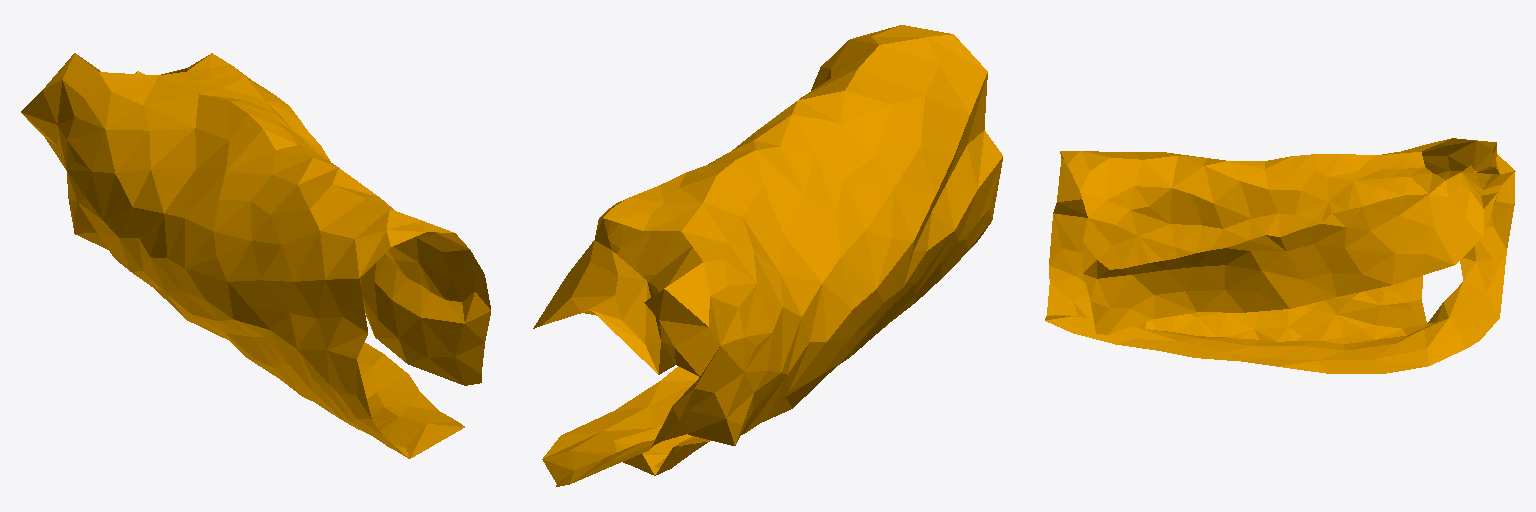
robot.urdf — init:
<?xml version='1.0' encoding='utf-8'?>
<robot name="init">
<link name="link_0"><inertial><mass value="1.0" /><origin rpy="0 0 0" xyz="0.000000 0.000000 0.000000" /><inertia ixx="1.0" ixy="0.0" ixz="0.0" iyy="1.0" iyz="0.0" izz="1.0" /></inertial><visual><origin rpy="0 0 0" xyz="0.000000 0.000000 0.000000" /><geometry><mesh filename="./clothHuman/cloth/2973.obj" /></geometry></visual><collision><origin rpy="0 0 0" xyz="0.000000 0.000000 0.000000" /><geometry><mesh filename="./clothHuman/cloth/2973.obj" /></geometry></collision></link></robot>

--- Render facts (derived) ---
The picture shows the robot from 3 angles, left to right: view 1: azimuth 30°, elevation 25°; view 2: azimuth 150°, elevation 25°; view 3: azimuth 270°, elevation 25°; orthographic projection.
Robot: init — 1 links, 0 joints (none); root link link_0; default pose: every joint at zero.
Visible links, largest first — view 1: link_0; view 2: link_0; view 3: link_0.
Link boxes in pixels (bbox=[...]): link_0: bbox=[21, 53, 490, 458]; link_0: bbox=[533, 25, 1002, 486]; link_0: bbox=[1045, 138, 1515, 373].
Bounding box of the posed robot: 1.52 × 3.92 × 1.69 m (x, y, z).
Meshes: 1 distinct files referenced, 1 mesh visuals loaded (1 OBJ).